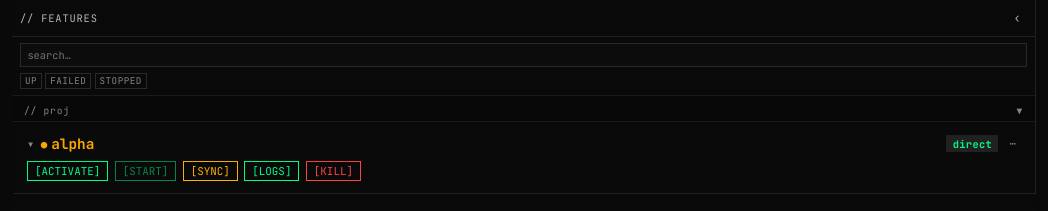
FeatureList — search and status-chip filter › clearing filters from the no-match state restores the feature
Type "zzz-no-match" into the field named "Search features" at [524, 55], box [20, 43, 1027, 67]
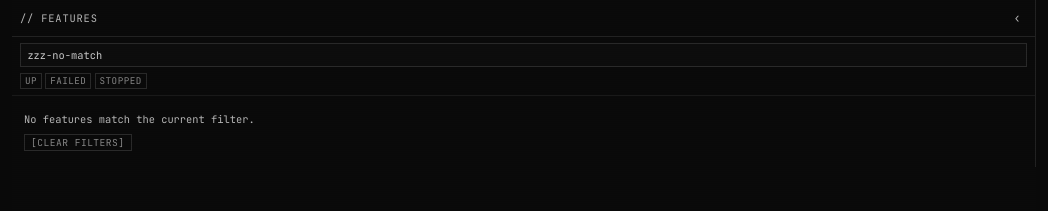
Now the text "alpha" is gone
Click the button "[CLEAR FILTERS]" at [78, 143], box [24, 134, 132, 151]
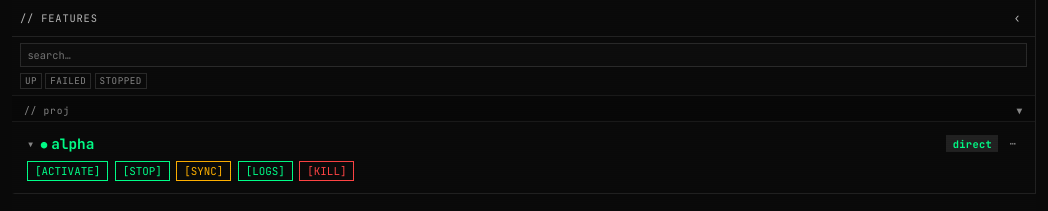
Now the text "alpha" is shown, box [51, 134, 94, 153]
